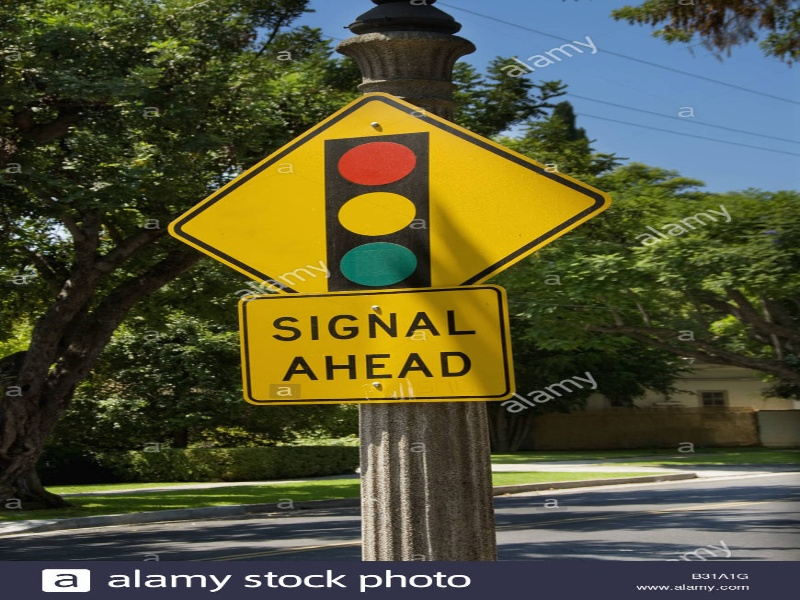traffic signal sign: (164, 88, 611, 301)
